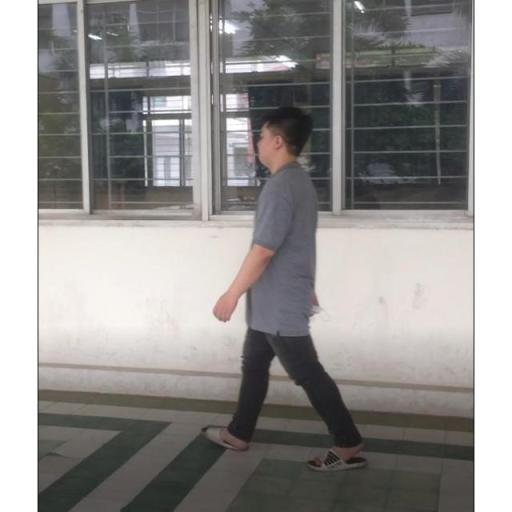Running: (193, 96, 374, 478)
